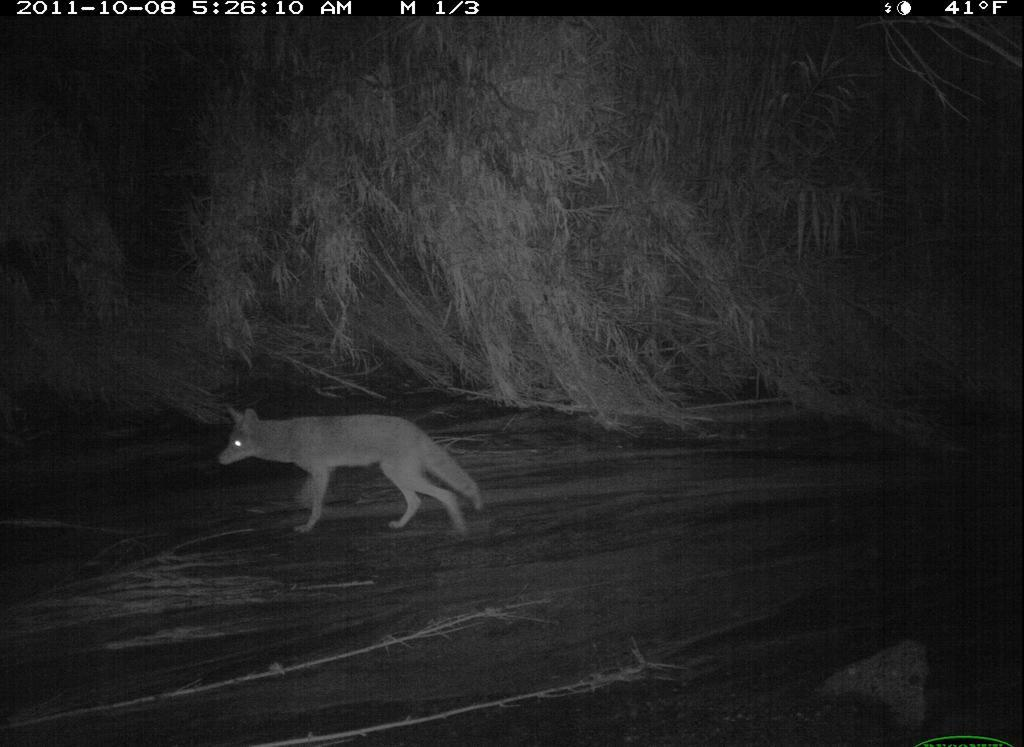coyote: (217, 400, 491, 539)
